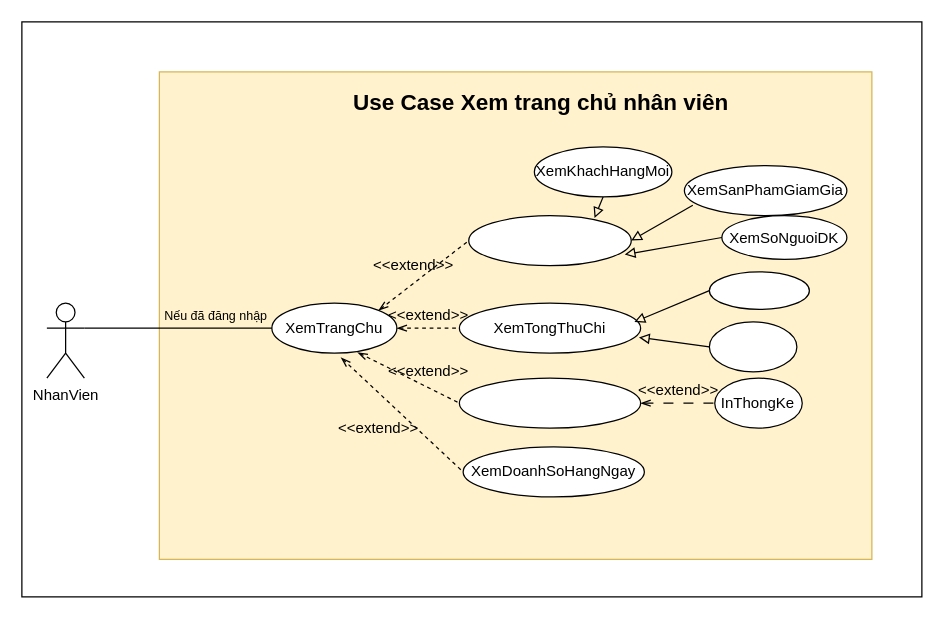
The diagram is 944 pixels wide and 619 high, and some of its shapes have lost their labels. The centre of each missing label's shape, as x and y in pixels:
"XemBieuDoNguoiDung" belongs at pixel 549 402.
"XemThongSoTongQuan" belongs at pixel 549 240.
"XemTongChi" belongs at pixel 752 346.
"XemTongThu" belongs at pixel 758 290.
